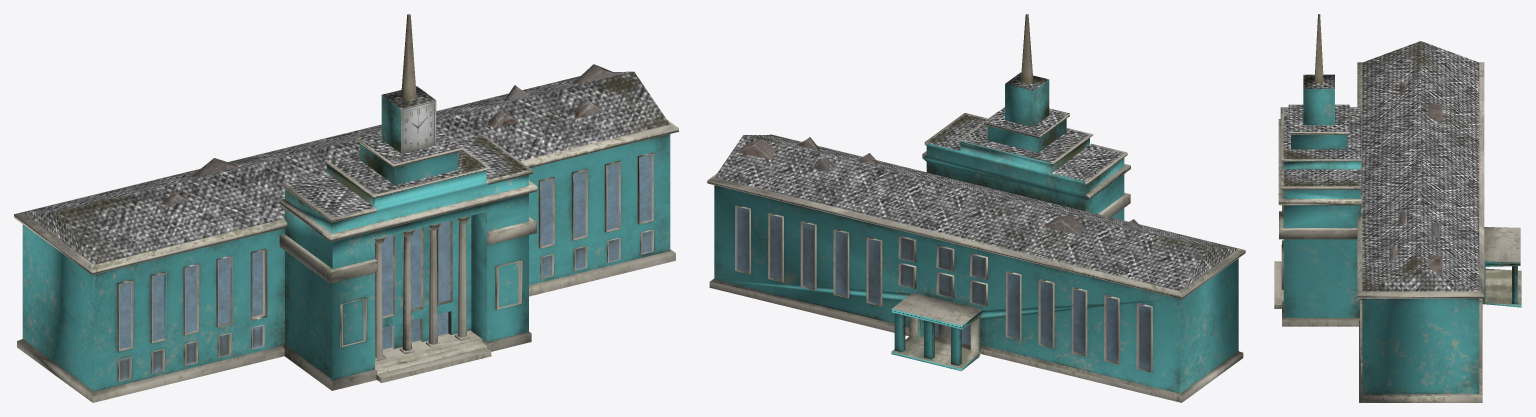
File: vokz.fbx
3 renders of one model, left to right at view 1: azimuth 30°, elevation 25°; view 2: azimuth 150°, elevation 25°; view 3: azimuth 270°, elevation 25°, orthographic. The views are drawn at different scales.
Parts seen in each view (by area): view 1: vokzaal; view 2: vokzaal; view 3: vokzaal.
Part boxes in pixels (x1,y1,x2,y2): vokzaal: [14, 14, 678, 402]; vokzaal: [707, 14, 1245, 402]; vokzaal: [1274, 14, 1521, 402].
Size of the model in its own units: 7897 by 4359 by 3539.
Materials: 1 (1 with a texture image).
